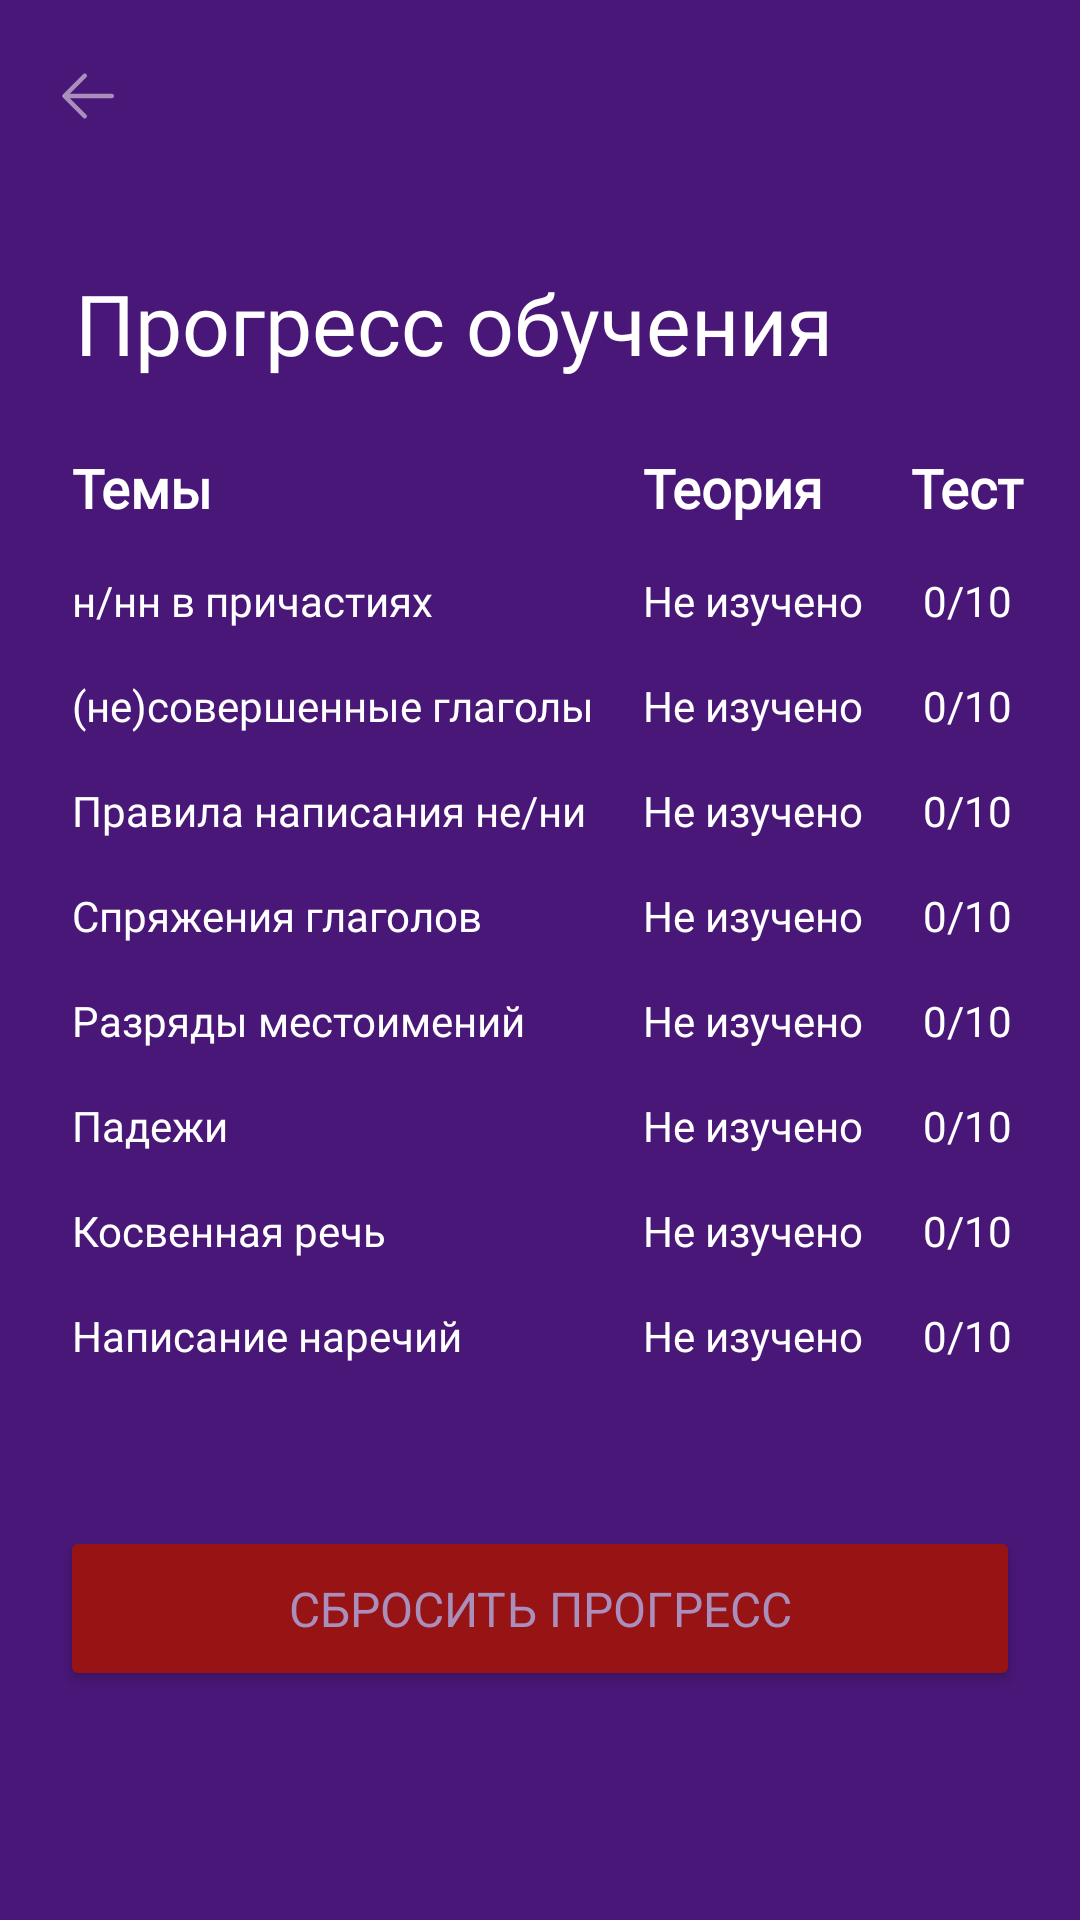

Screen size 1080w x 1920h. Icon name, then its box in pixels as BBox(x1, y1, x2, y2):
back: BBox(62, 73, 114, 119)
